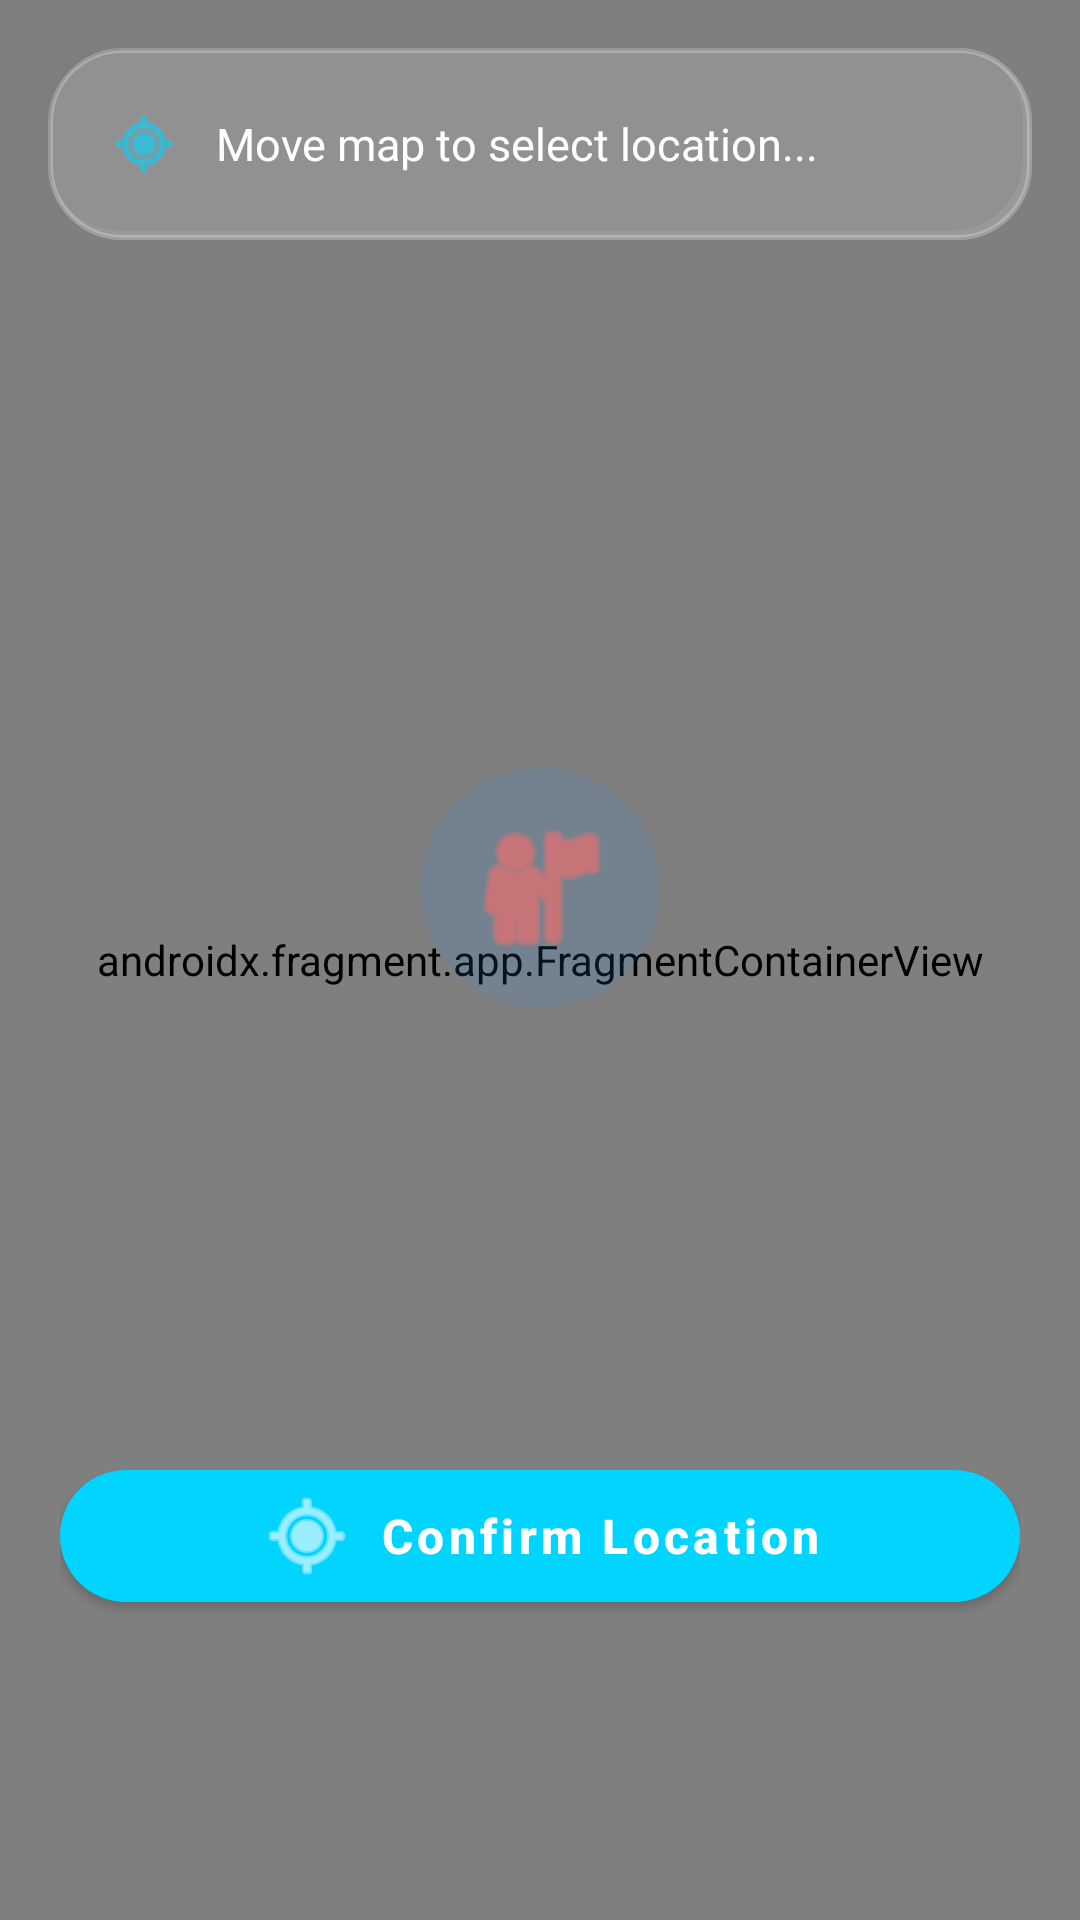

Screen size 1080*1920. Icon name, then its center in pixels as (x,y):
mylocation: (144,144)
